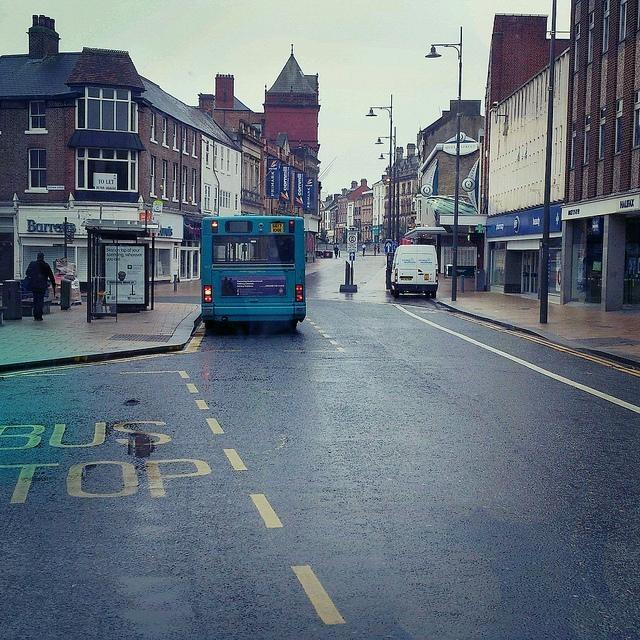bus: (202, 212, 306, 332)
truck: (386, 245, 441, 299)
